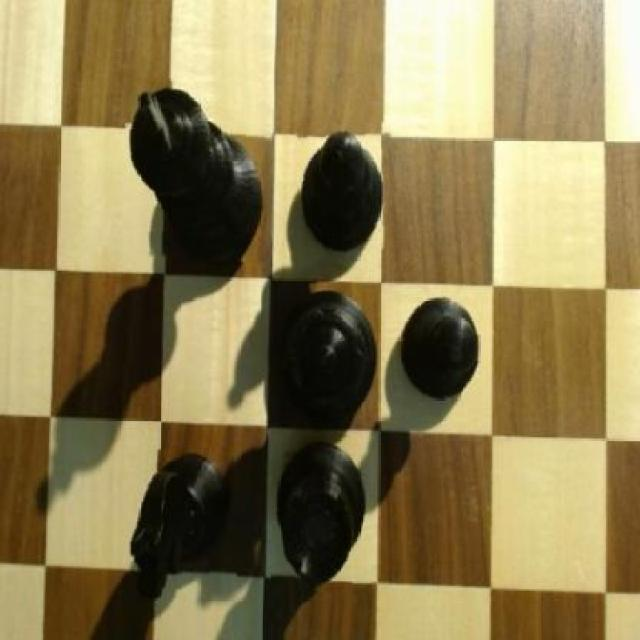bishop: (298, 124, 394, 253)
black-bishop: (122, 78, 273, 261)
black-king: (125, 448, 236, 599)
black-knight: (398, 289, 487, 408)
black-pawn: (278, 281, 384, 424)
black-queen: (272, 434, 377, 592)
